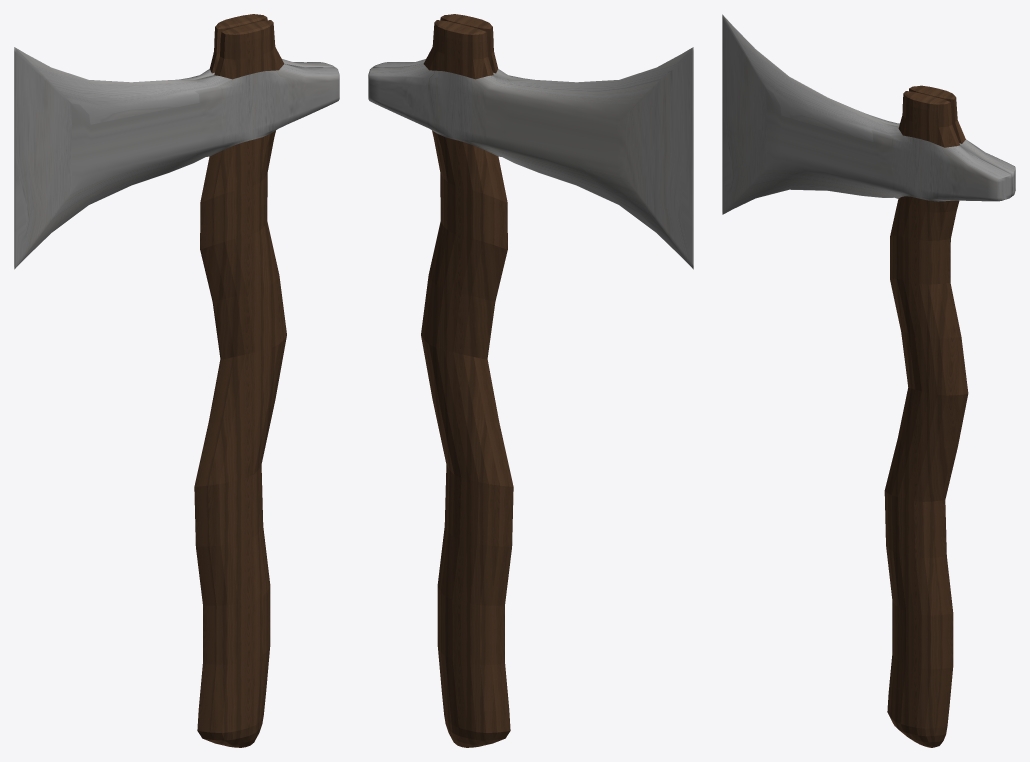
Rendered from AxeMidlleAges.fbx.
The picture shows the model from 3 angles, left to right: view 1: azimuth 30°, elevation 25°; view 2: azimuth 150°, elevation 25°; view 3: azimuth 330°, elevation 25°; orthographic projection. The views are drawn at different scales.
Visible parts, largest first — view 1: Cube.001; view 2: Cube.001; view 3: Cube.001.
Boxes of the visible parts, x1,y1,x2,y2 form: Cube.001: (14, 14, 339, 747); Cube.001: (368, 14, 693, 747); Cube.001: (722, 14, 1015, 747).
Bounding box in the file's own units: 1819 × 4083 × 200.
2 materials, 2 textured.
